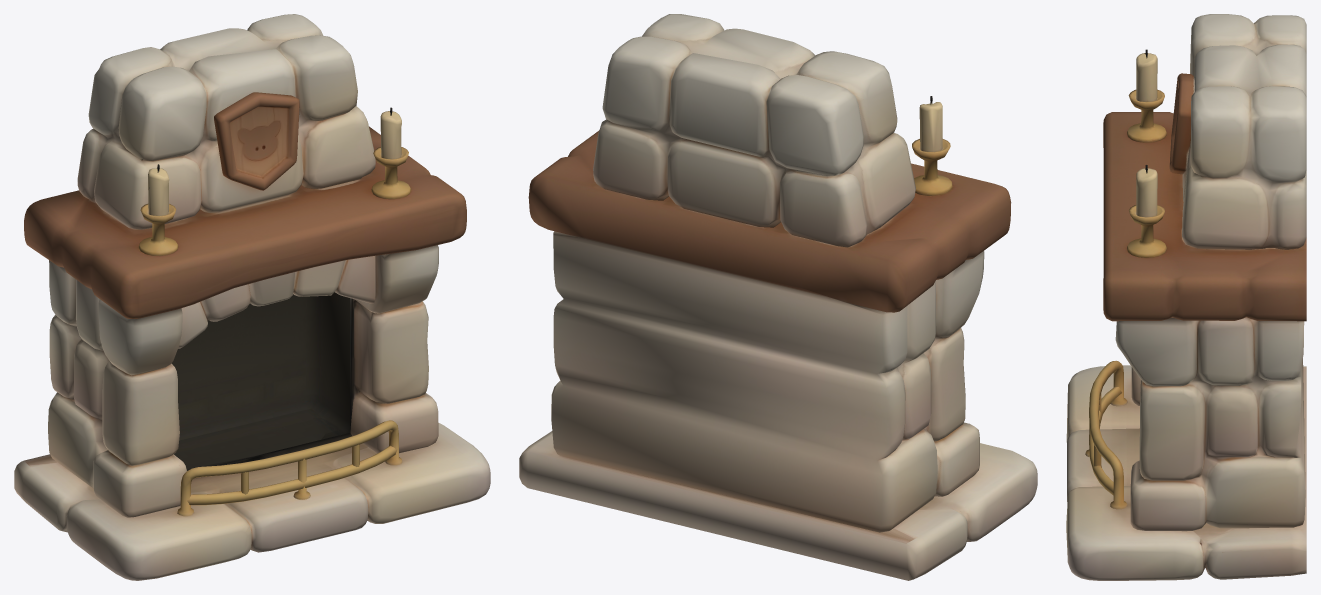
File: fireplace.glb
The picture shows the model from 3 angles, left to right: view 1: azimuth 30°, elevation 25°; view 2: azimuth 150°, elevation 25°; view 3: azimuth 270°, elevation 25°; orthographic projection. The views are drawn at different scales.
Parts seen in each view (by area): view 1: fireplace; view 2: fireplace; view 3: fireplace.
Part boxes in pixels (bbox=[...]): fireplace: bbox=[14, 14, 490, 580]; fireplace: bbox=[519, 14, 1037, 580]; fireplace: bbox=[1066, 14, 1306, 580].
Size of the model in its own units: 2.72 by 3 by 1.51.
Materials: 1 (1 with a texture image).
